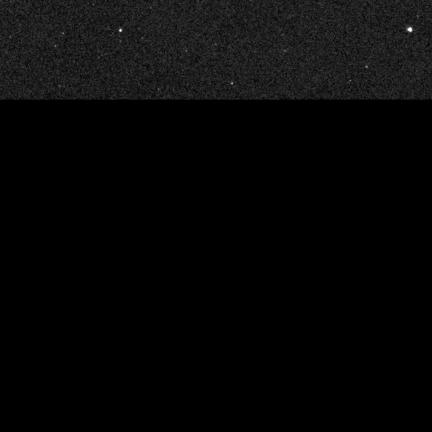blob: (408, 27, 412, 32)
